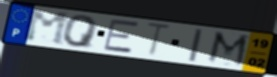E: (102, 19, 141, 55)
I: (187, 27, 205, 63)
M: (204, 30, 252, 69), (24, 9, 70, 47)
Q: (62, 15, 101, 50)
T: (145, 21, 174, 59)
